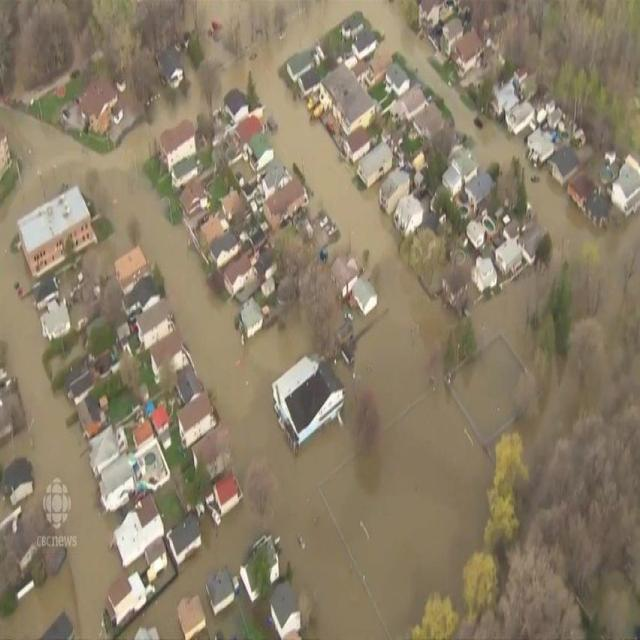flooded_areas: (5, 195, 309, 639), (287, 254, 596, 639), (274, 21, 548, 346), (165, 116, 379, 436)
